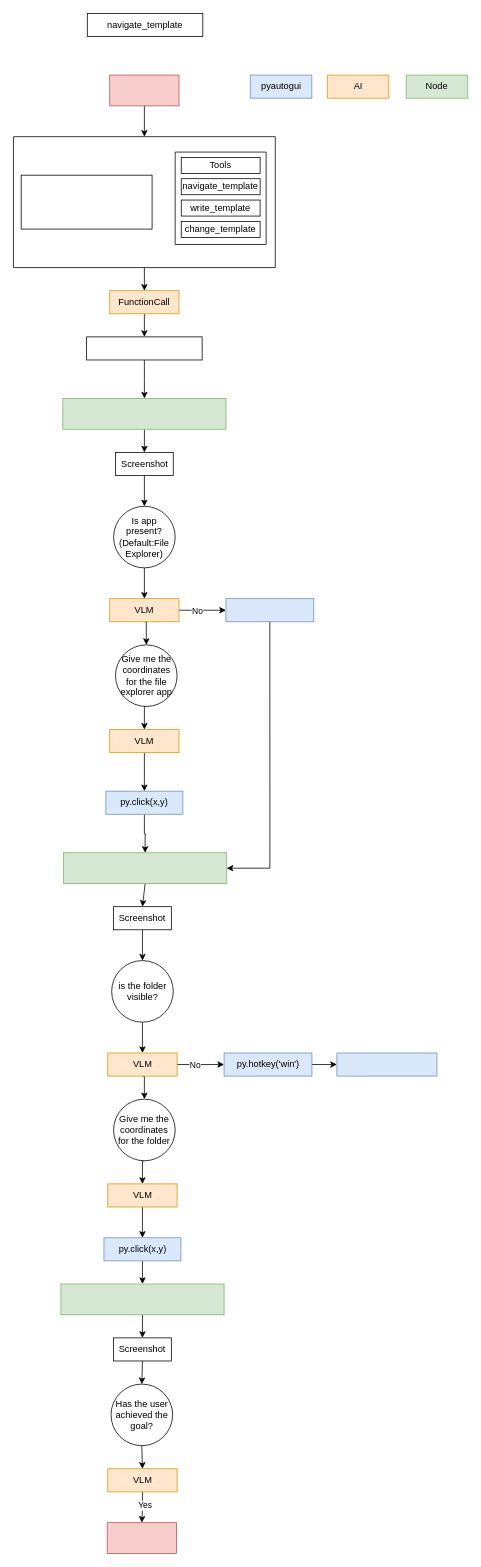
Some shapes in this 481 by 1567 pixel diagram are drawn without their labels. The shapes that lost their labels are listed below. From the top down, each one's box as (x1, y1, x2, y2) in pixels, then its label:
(109, 74, 179, 106): START
(20, 174, 152, 229): Prompt : Open the Downloads folder
(86, 336, 202, 360): Tool: navigate_template
(62, 398, 226, 429): Node 1: Launch app
(225, 598, 314, 622): py.hotkey('win', 'e')
(63, 852, 227, 884): Node 2: Navigate
(336, 1052, 437, 1076): py.press('file_name)
(60, 1283, 224, 1315): Node 3: Verify
(106, 1522, 176, 1553): END
